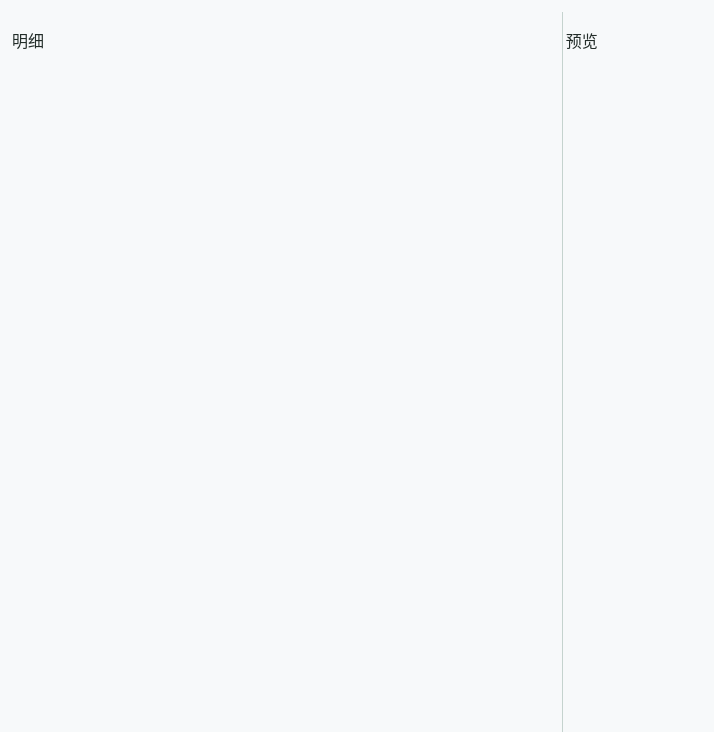
Scenario: 拖动捕获指针，释放后保存比例并恢复光标
This screenshot has width=714, height=732.
Press the mouse on the element named "测试分隔线": [563, 372] box [560,12,566,731]
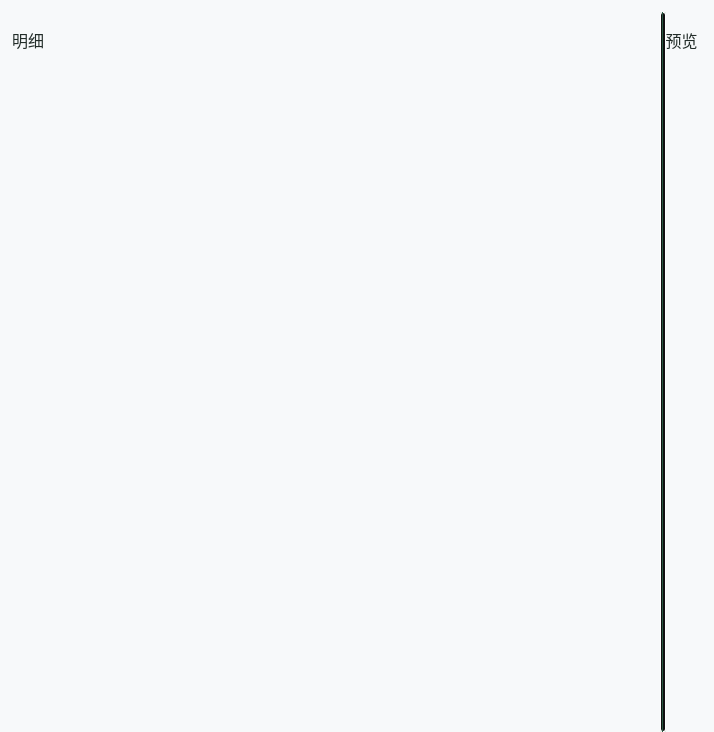
Now the element named "测试分隔线" has attribute aria-valuenow="51", box [660,12,666,731]
